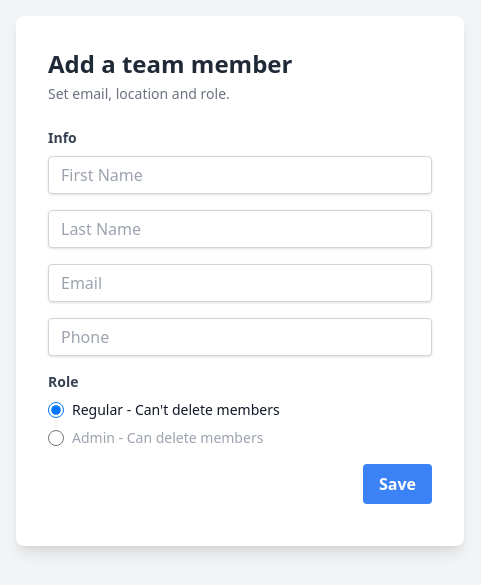
it: AddTeamMember › displays error when trying to save with empty required fields
Click the button "Save" at (398,484), box [363, 464, 432, 504]
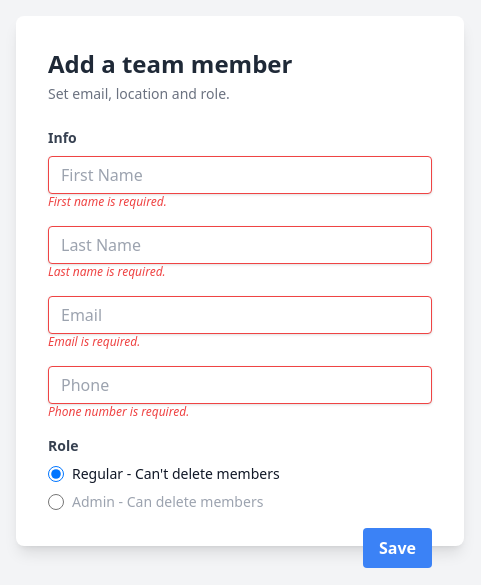
Check: the text "First name is required." is shown, box [48, 193, 167, 210]
Check: the text "Last name is required." is shown, box [48, 263, 166, 280]
Check: the text "Email is required." is shown, box [48, 333, 140, 350]
